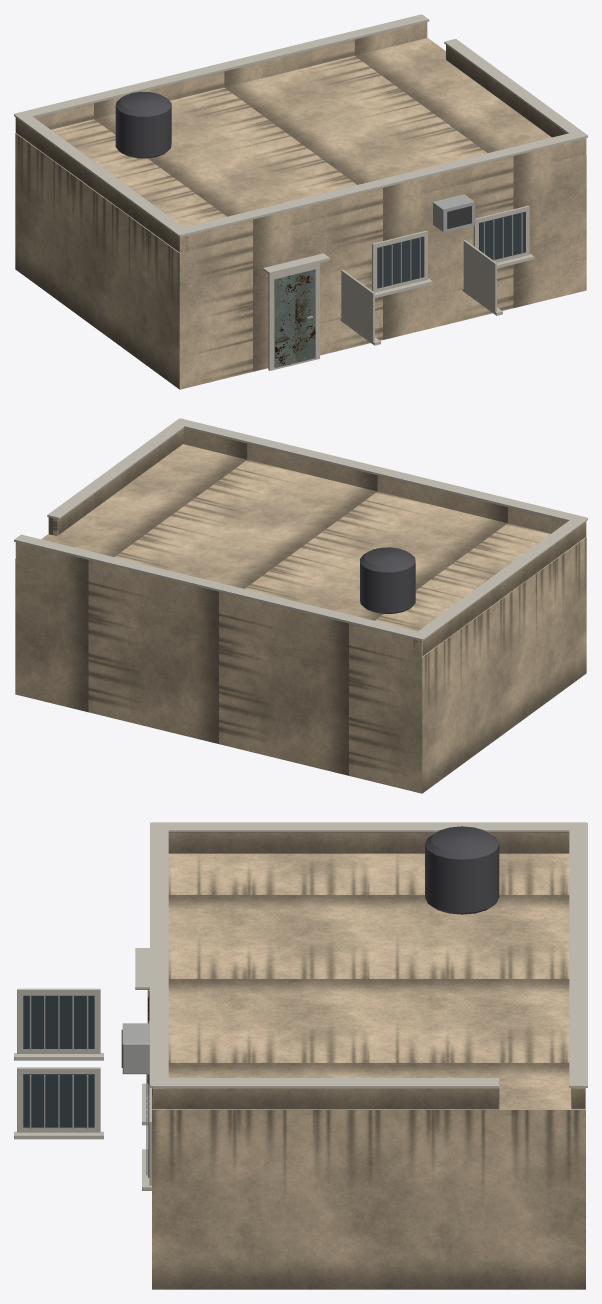
The model's file is building.glb.
3 renders of one model, top to bottom at view 1: azimuth 30°, elevation 25°; view 2: azimuth 150°, elevation 25°; view 3: azimuth 270°, elevation 25°, orthographic. The views are drawn at different scales.
Parts seen in each view (by area): view 1: model; view 2: model; view 3: model.
Boxes of the visible parts, x1=… form: model: x1=14, y1=14, x2=587, y2=389; model: x1=14, y1=418, x2=587, y2=793; model: x1=14, y1=822, x2=587, y2=1289.
Size of the model in its own units: 10.06 by 4.37 by 9.25.
Materials: 7 (2 with a texture image).
